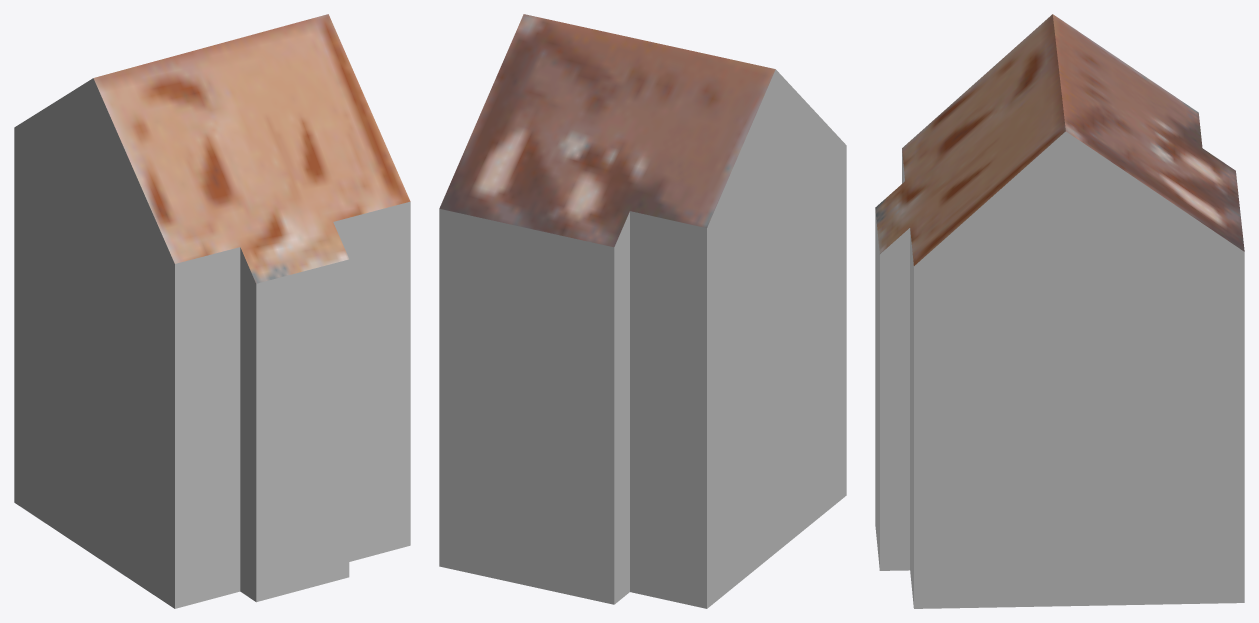
The model's file is DEBW_0010007TxgF.gltf.
The picture shows the model from 3 angles, left to right: view 1: azimuth 30°, elevation 25°; view 2: azimuth 150°, elevation 25°; view 3: azimuth 270°, elevation 25°; orthographic projection.
Parts seen in each view (by area): view 1: Z_UP; view 2: Z_UP; view 3: Z_UP.
Part boxes in pixels (bbox=[...]): Z_UP: bbox=[14, 14, 410, 608]; Z_UP: bbox=[439, 14, 846, 608]; Z_UP: bbox=[875, 14, 1244, 608].
Size of the model in its own units: 11.52 by 20.76 by 14.63.
2 materials, 1 textured.
